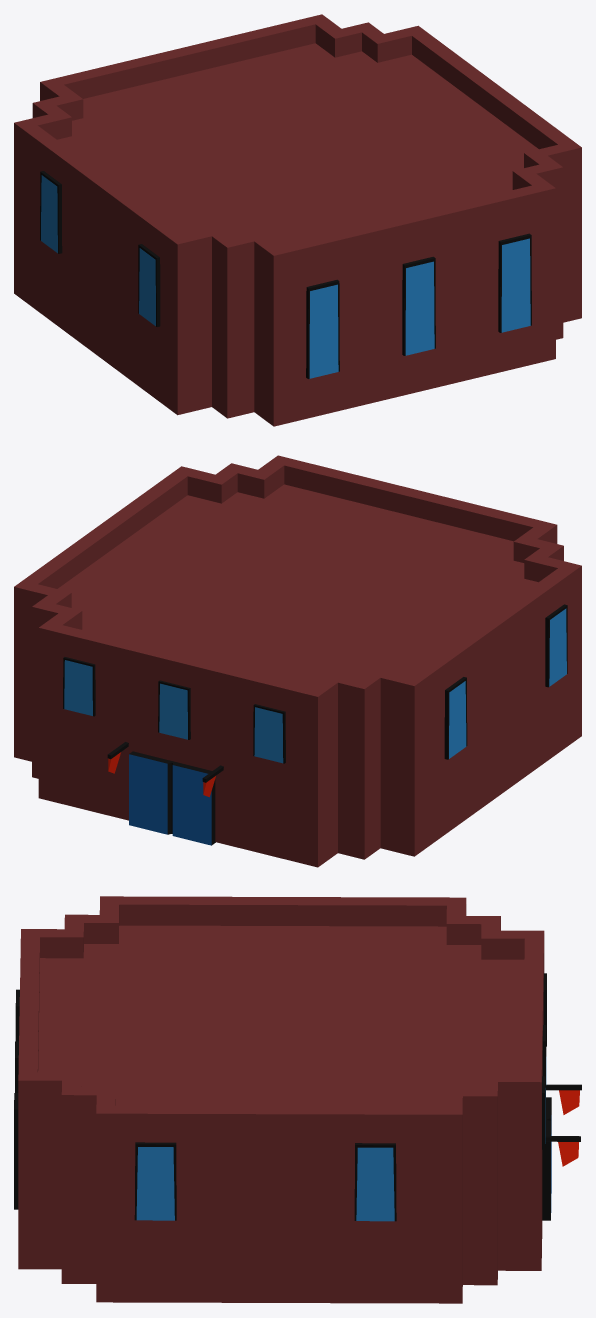
Rendered from Shop1_pink.FBX.
3 views of the same model, one above another, from view 1: azimuth 30°, elevation 25°; view 2: azimuth 150°, elevation 25°; view 3: azimuth 270°, elevation 25° (orthographic). The views are drawn at different scales.
Visible parts, largest first — view 1: Shop1_pink; view 2: Shop1_pink; view 3: Shop1_pink.
Boxes of the visible parts, x1,y1,x2,y2 form: Shop1_pink: (14,14,581,426); Shop1_pink: (14,455,581,867); Shop1_pink: (14,896,581,1303).
Bounding box in the file's own units: 770 × 833 × 307.
